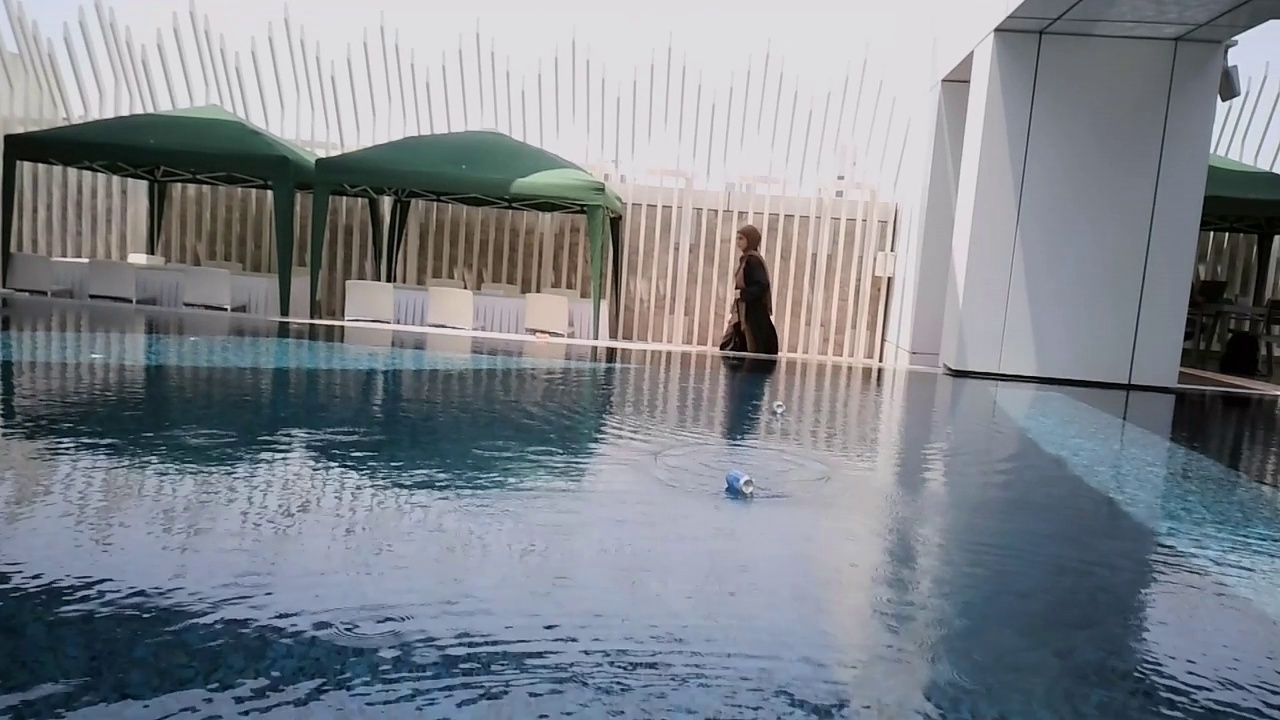debris: (723, 468, 756, 499), (770, 399, 788, 417), (533, 330, 553, 341)
